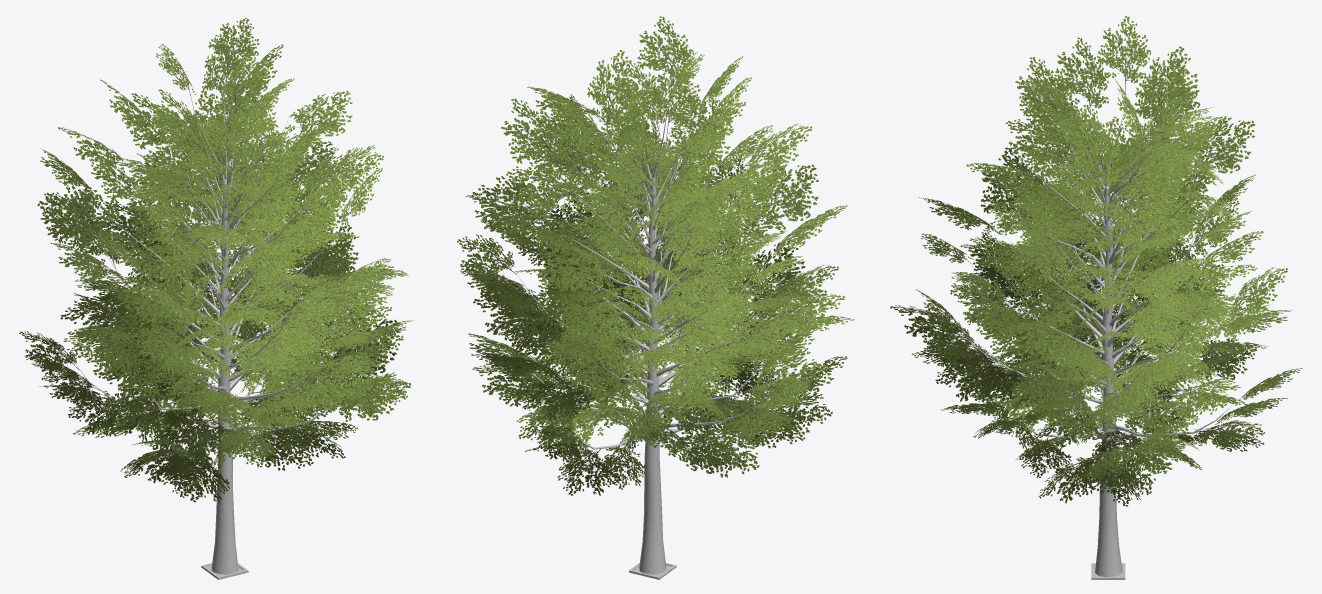
Rendered from jctTreeA.fbx.
3 renders of one model, left to right at view 1: azimuth 30°, elevation 25°; view 2: azimuth 150°, elevation 25°; view 3: azimuth 270°, elevation 25°, orthographic.
Parts seen in each view (by area): view 1: jctTreeA_LOD0; view 2: jctTreeA_LOD0; view 3: jctTreeA_LOD0.
Boxes of the visible parts, bbox=[...] form: jctTreeA_LOD0: bbox=[19, 17, 413, 579]; jctTreeA_LOD0: bbox=[457, 16, 854, 579]; jctTreeA_LOD0: bbox=[890, 16, 1302, 579].
Bounding box in the file's own units: 998 × 1371 × 986.
